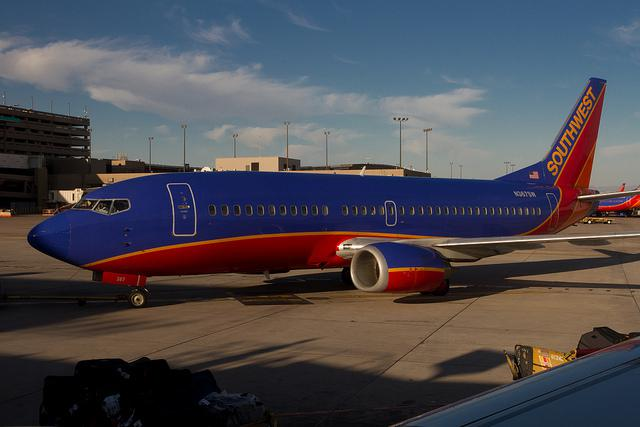Airplane: (27, 79, 640, 310)
